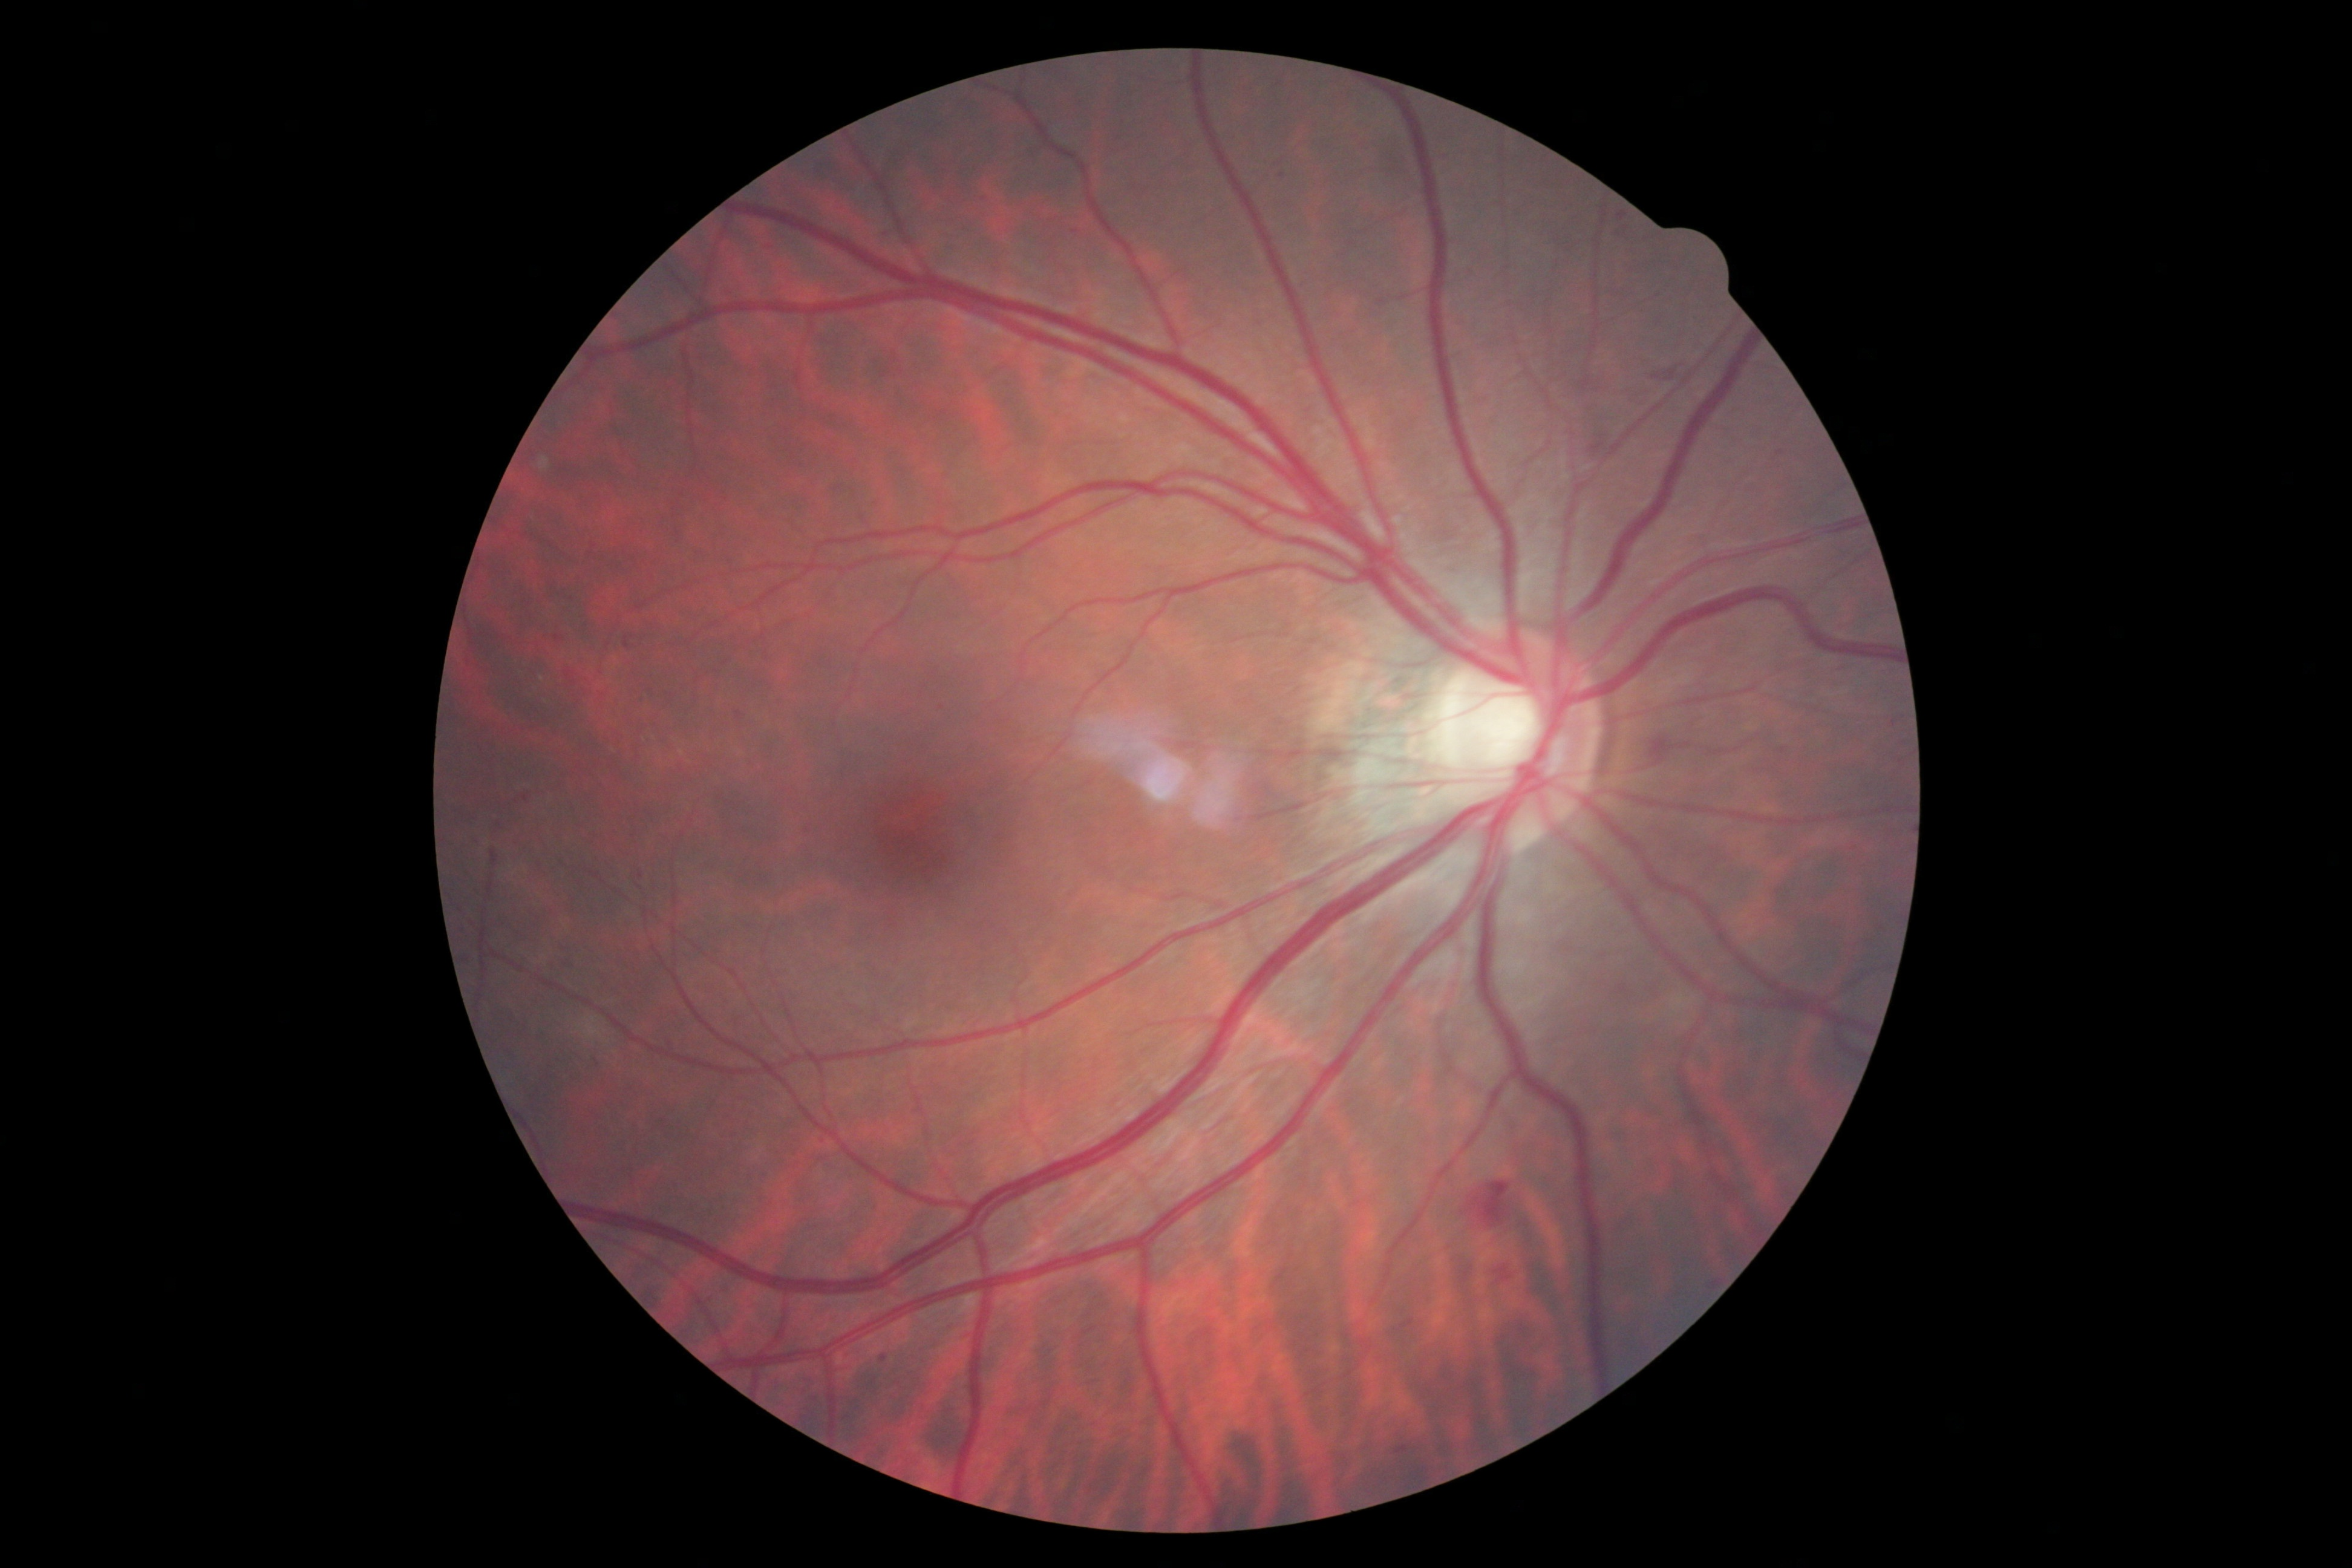Fovea: (814, 761, 1003, 913)
OD: (1395, 618, 1627, 882)
